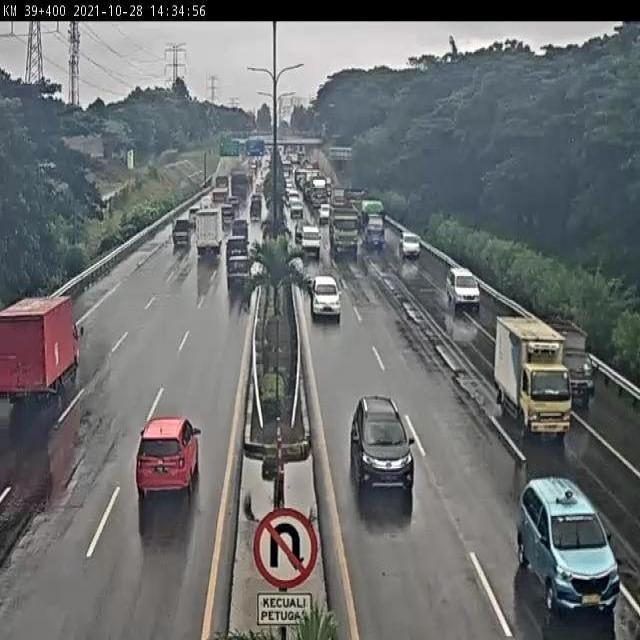big truck: (326, 211, 358, 257)
car: (513, 481, 627, 628), (342, 392, 425, 517), (138, 401, 201, 511), (556, 325, 608, 404), (305, 272, 345, 335), (445, 260, 481, 313), (398, 228, 428, 265), (299, 224, 325, 263), (225, 250, 251, 286), (165, 216, 188, 247), (231, 236, 248, 251)
small truck: (2, 290, 92, 410), (496, 314, 574, 442), (191, 200, 227, 264), (365, 203, 379, 248)
